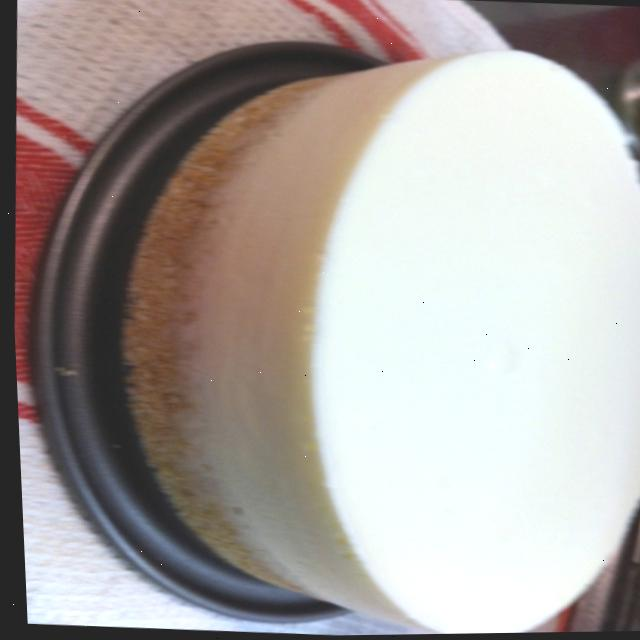蛋糕甜品: (51, 13, 640, 639)
